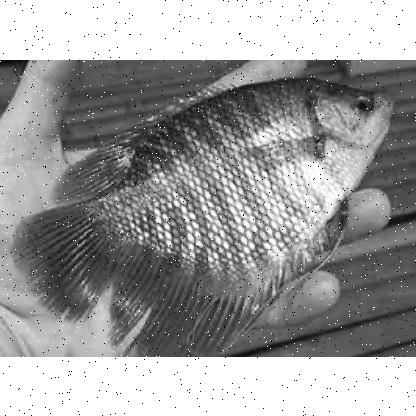gurame: (17, 69, 400, 350)
